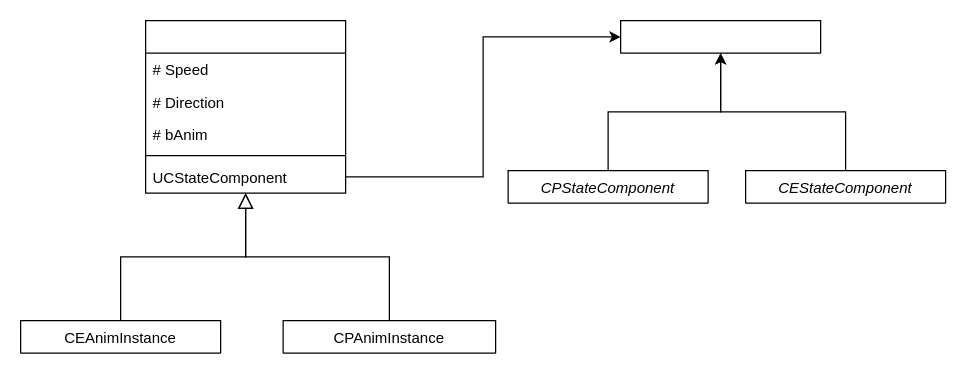
The diagram is 966 pixels wide and 374 high, and some of its shapes have lost their labels. The box of each missing label's shape, as (x1, y1, x2, y2) in pixels:
CAnimInstance: (144, 19, 346, 193)
CStateComponent: (619, 19, 821, 53)
